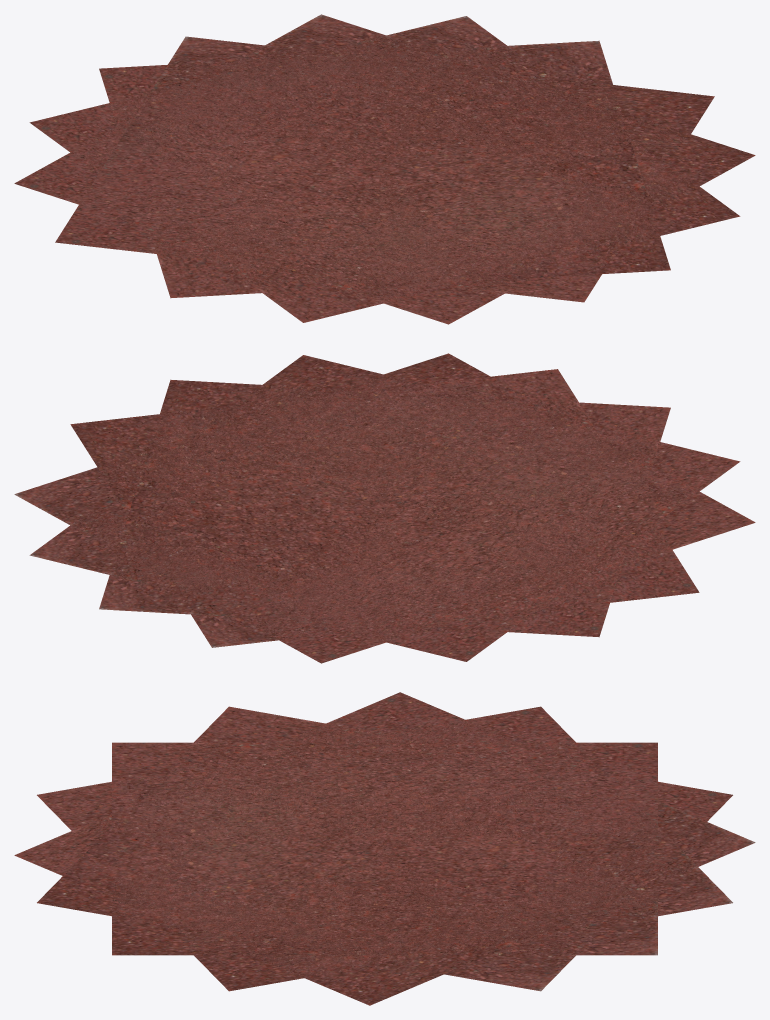
The model's file is pavimentoCirculo.obj.
3 views of the same model, one above another, from view 1: azimuth 30°, elevation 25°; view 2: azimuth 150°, elevation 25°; view 3: azimuth 270°, elevation 25° (orthographic).
Parts seen in each view (by area): view 1: Plane005, Plane006, Plane007, Plane008; view 2: Plane005, Plane006, Plane008, Plane007; view 3: Plane005, Plane006, Plane007, Plane008.
Part boxes in pixels (<box>): Plane005: <box>29,16,740,322</box>; Plane006: <box>55,36,714,302</box>; Plane007: <box>14,14,755,324</box>; Plane008: <box>99,40,670,298</box>; Plane005: <box>29,355,740,661</box>; Plane006: <box>70,369,699,647</box>; Plane008: <box>14,353,755,663</box>; Plane007: <box>99,379,670,637</box>; Plane005: <box>112,742,657,955</box>; Plane006: <box>14,692,755,1005</box>; Plane007: <box>37,706,732,991</box>; Plane008: <box>37,706,732,991</box>.
Bounding box in the file's own units: 50.65 × 0 × 50.65.
